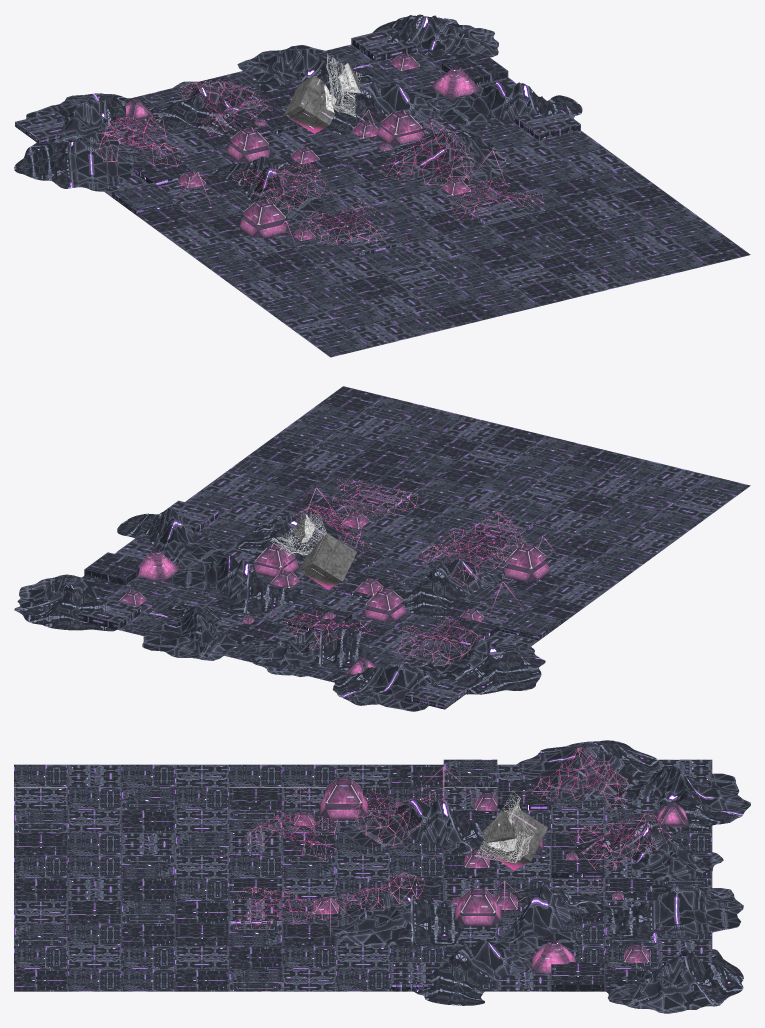
File: Future_Ground_comp.glb
The picture shows the model from 3 angles, top to bottom: view 1: azimuth 30°, elevation 25°; view 2: azimuth 150°, elevation 25°; view 3: azimuth 270°, elevation 25°; orthographic projection. The views are drawn at different scales.
Visible parts, largest first — view 1: Future_DiMian1, Future_DiMian2, Future_DiMian3, Shan1, Shan7, Future_ShanXianKuang, Shan9, Shan3, Shan8, Shan5, Shan6, Shan2 (+7 smaller); view 2: Future_DiMian1, Future_DiMian2, Future_DiMian3, Shan1, Shan9, Shan5, Shan2, Shan4, Shan8, Shan6, Future_ShanXianKuang, Shan3 (+7 smaller); view 3: Future_DiMian1, Future_DiMian2, Future_DiMian3, Shan1, Shan7, Shan9, Shan2, Shan6, Future_ShanXianKuang, Shan4, Shan3, Shan8 (+8 smaller).
Part boxes in pixels (x1,y1,x2,y2): Future_DiMian1: (99, 44, 726, 357); Future_DiMian2: (15, 28, 684, 347); Future_DiMian3: (122, 49, 750, 326); Shan1: (14, 136, 146, 191); Shan7: (392, 131, 506, 183); Future_ShanXianKuang: (96, 81, 543, 244); Shan9: (237, 45, 375, 97); Shan3: (441, 81, 582, 127); Shan8: (149, 80, 254, 135); Shan5: (324, 82, 450, 134); Shan6: (211, 156, 324, 219); Shan2: (372, 14, 498, 58); Future_DiMian1: (37, 396, 750, 691); Future_DiMian2: (78, 413, 726, 709); Future_DiMian3: (82, 386, 628, 685); Shan1: (430, 639, 545, 694); Shan9: (142, 603, 256, 660); Shan5: (170, 554, 302, 616); Shan2: (14, 574, 116, 631); Shan4: (331, 661, 456, 711); Shan8: (249, 627, 370, 676); Shan6: (391, 559, 502, 616); Future_ShanXianKuang: (284, 478, 525, 666); Shan3: (117, 508, 226, 567); Future_DiMian1: (14, 759, 712, 991); Future_DiMian2: (14, 759, 712, 991); Future_DiMian3: (14, 764, 712, 991); Shan1: (516, 740, 658, 800); Shan7: (326, 892, 468, 948); Shan9: (600, 884, 743, 942); Shan2: (606, 949, 743, 1013); Shan6: (343, 799, 495, 853); Future_ShanXianKuang: (235, 747, 671, 929); Shan4: (613, 766, 750, 829); Shan3: (414, 940, 532, 1005); Shan8: (576, 821, 723, 881).
Bounding box in the file's own units: 5.99 × 1.1 × 6.86.
5 materials, 5 textured.
